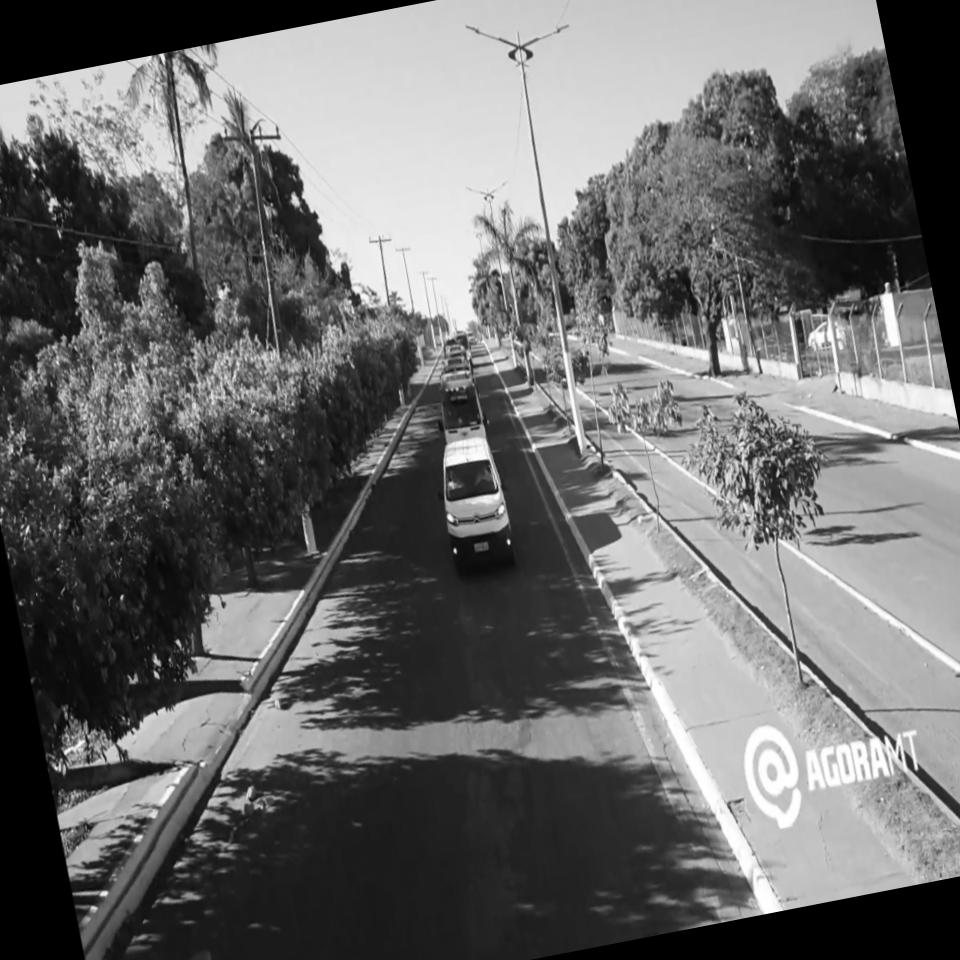bombeiro: (428, 365, 490, 444)
